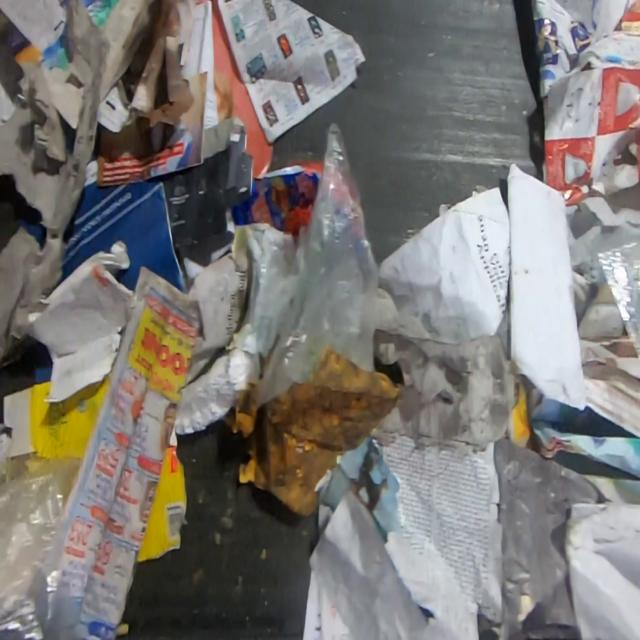cardboard: (222, 347, 401, 516), (0, 373, 111, 509), (136, 425, 190, 563)
soft_plastic: (256, 123, 378, 401), (497, 437, 587, 637), (0, 469, 64, 639), (598, 241, 640, 365)
